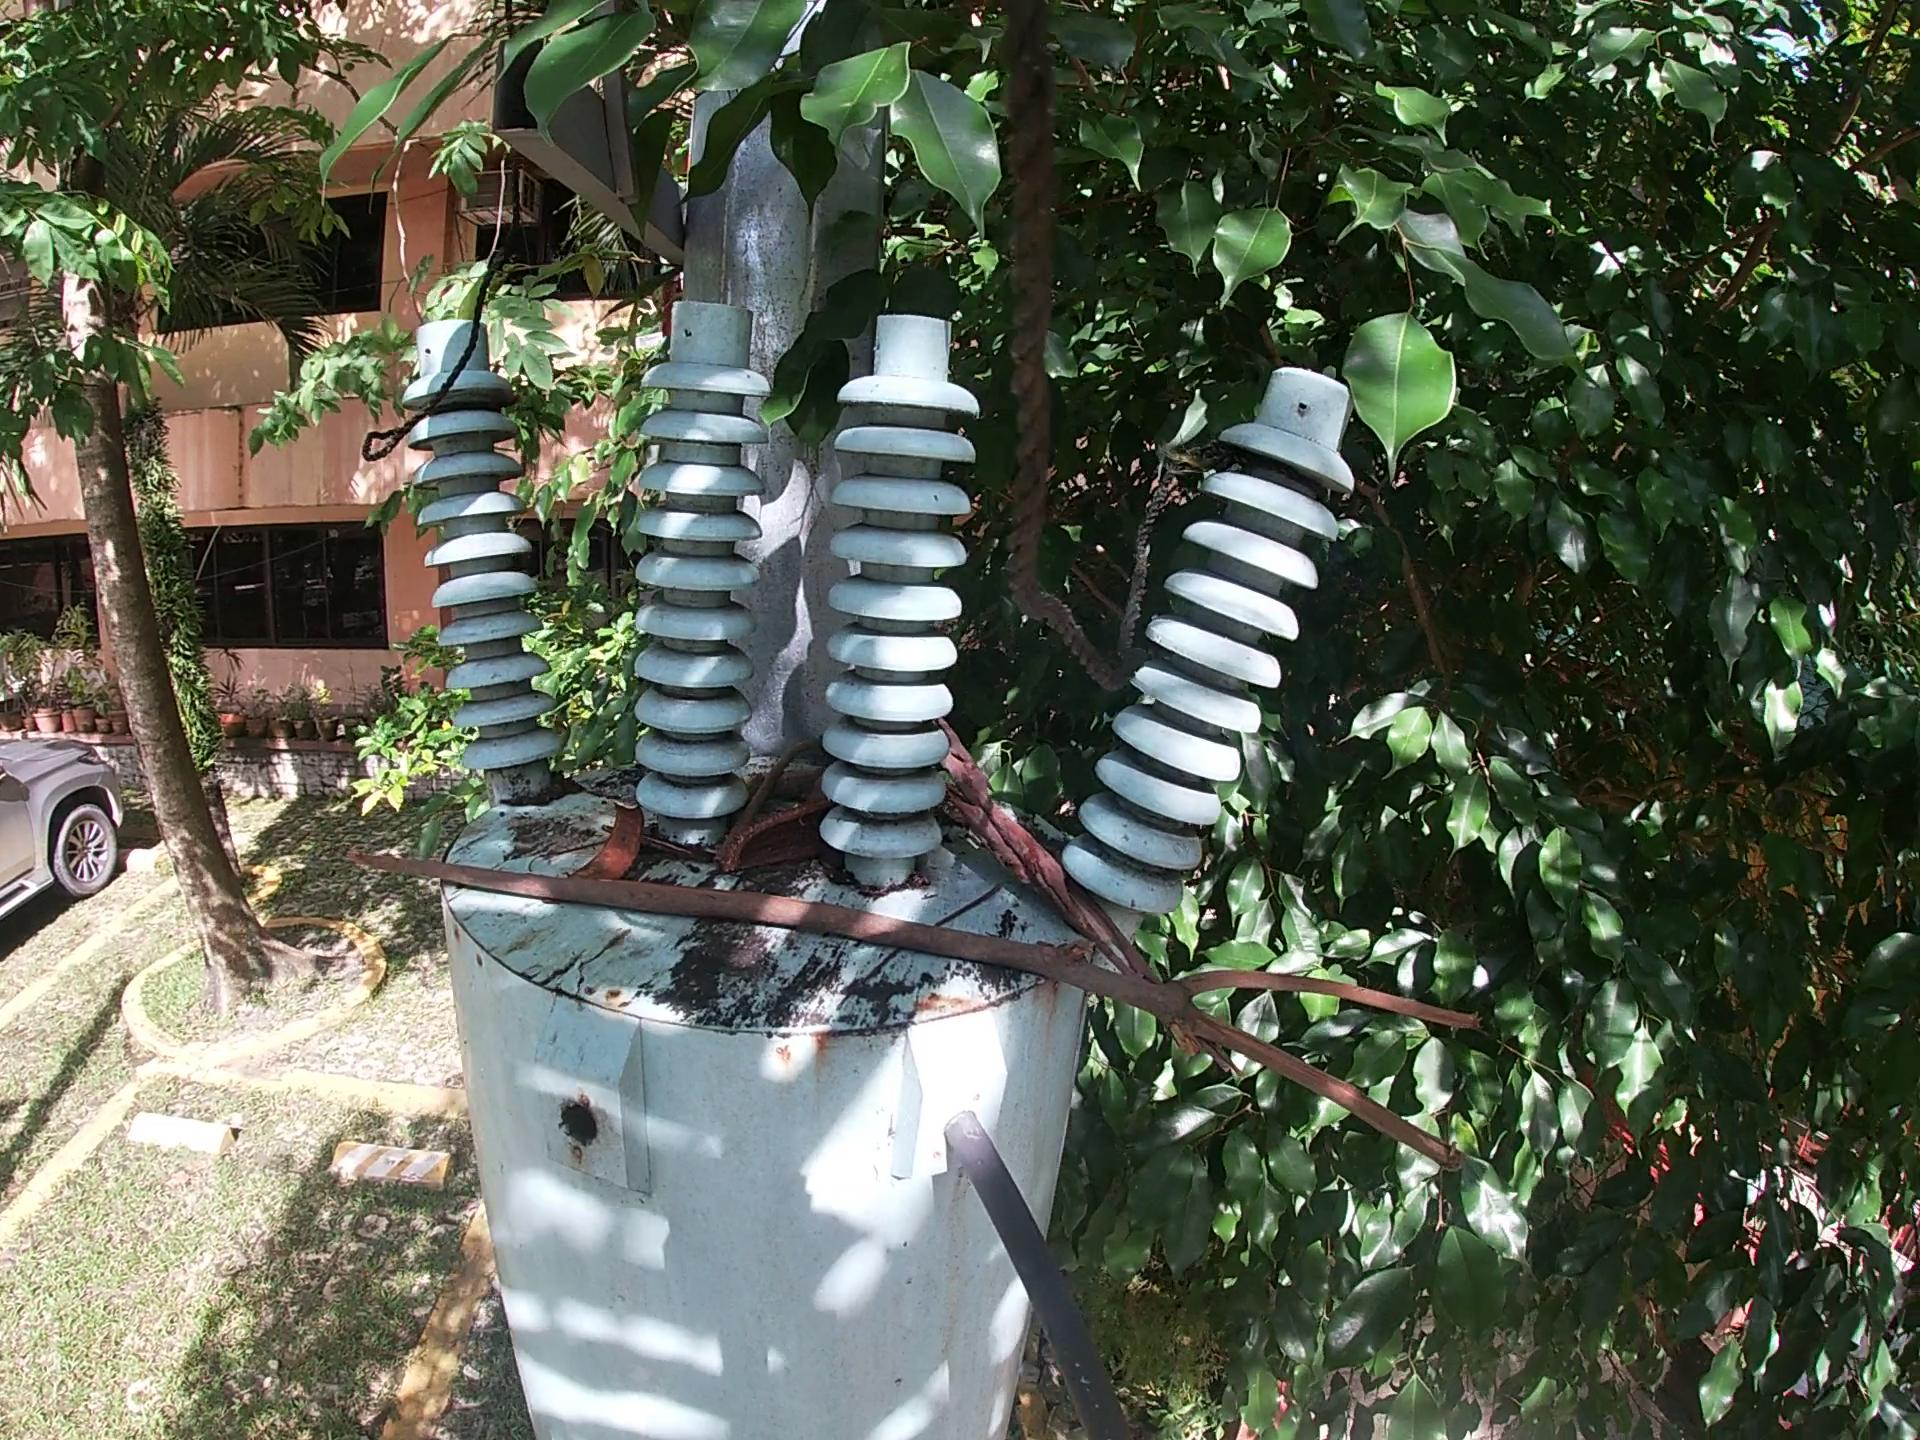mahogany fruit: (715, 803, 838, 882), (568, 794, 658, 891)
tree branch: (345, 849, 1488, 1178), (931, 708, 1246, 1085), (715, 737, 835, 864)
